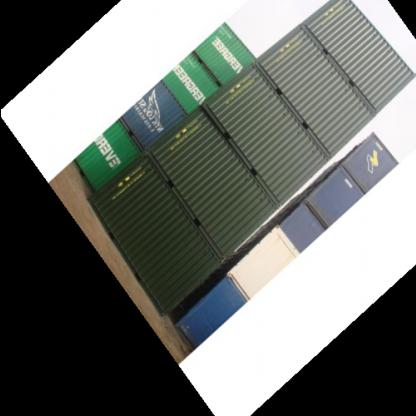Damage: (174, 196, 197, 236), (297, 144, 323, 161), (323, 66, 343, 80)
